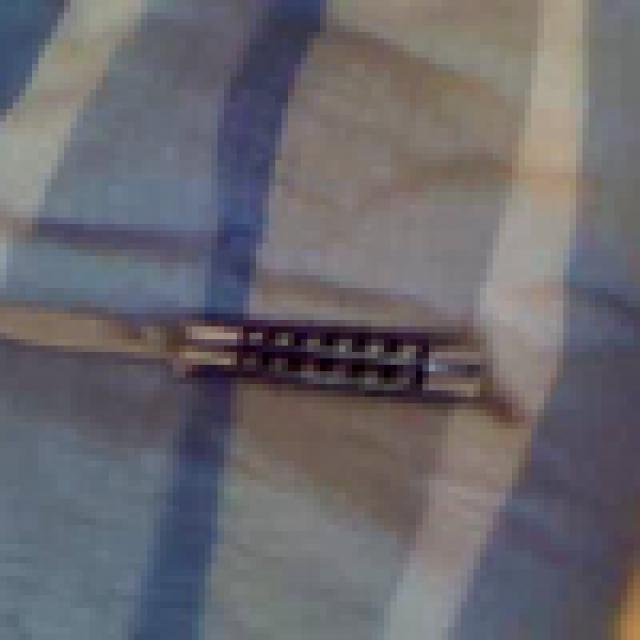Knife: (6, 282, 518, 454)
